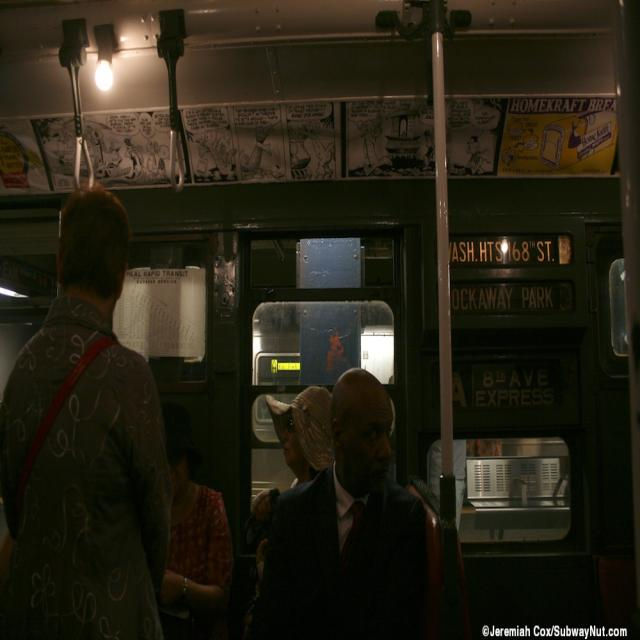body: (0, 178, 181, 639), (247, 364, 449, 639), (156, 400, 234, 640), (250, 385, 332, 567), (242, 482, 274, 609)
